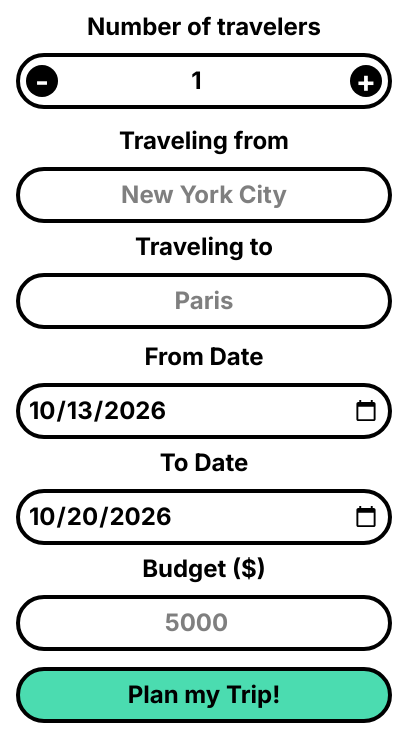
Test: Form › InputField behavior › return date selector updates automatically based on start date
Type "2025-09-01" into the date field labelled "To Date". click: coordinates (204, 517)
box: [16,489,392,545]
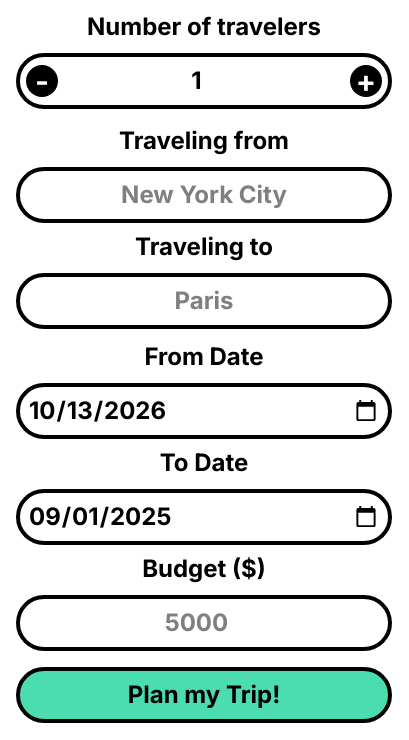
Type "2026-11-01" into the date field labelled "From Date". click: coordinates (204, 411)
box: [16,383,392,439]
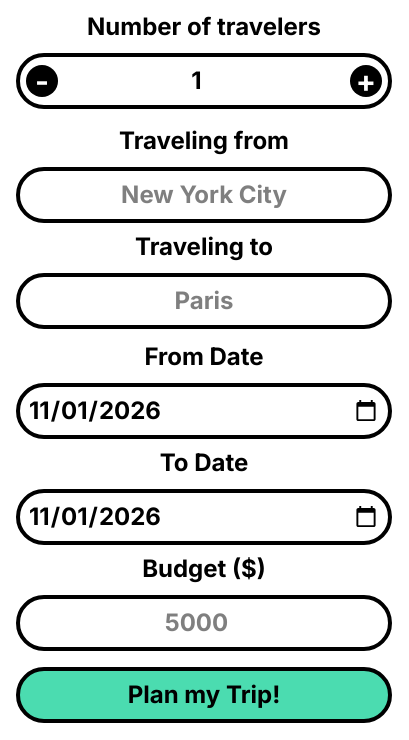
Result: the date field labelled "To Date" holds "2026-11-01" at [16,489,392,545]
